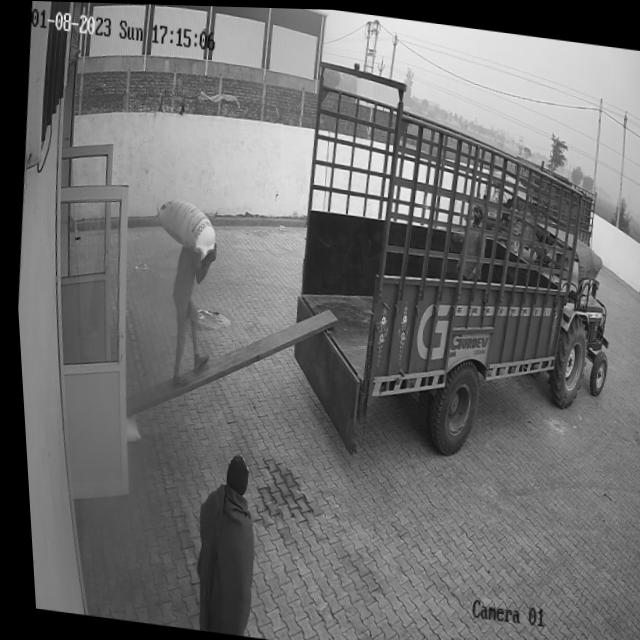sack: (149, 193, 216, 258)
